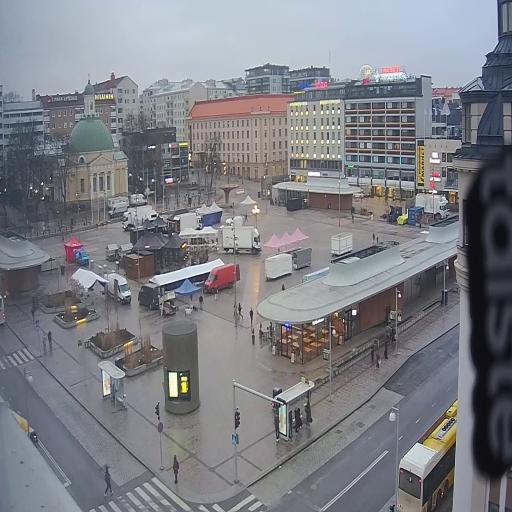bus: (394, 390, 464, 512), (7, 401, 43, 456), (0, 294, 9, 330)
delivery: (200, 261, 244, 299), (220, 223, 266, 256), (121, 204, 156, 236), (105, 271, 134, 309), (412, 197, 448, 214), (107, 198, 130, 224), (74, 246, 93, 271), (223, 210, 247, 229), (129, 188, 151, 207)
